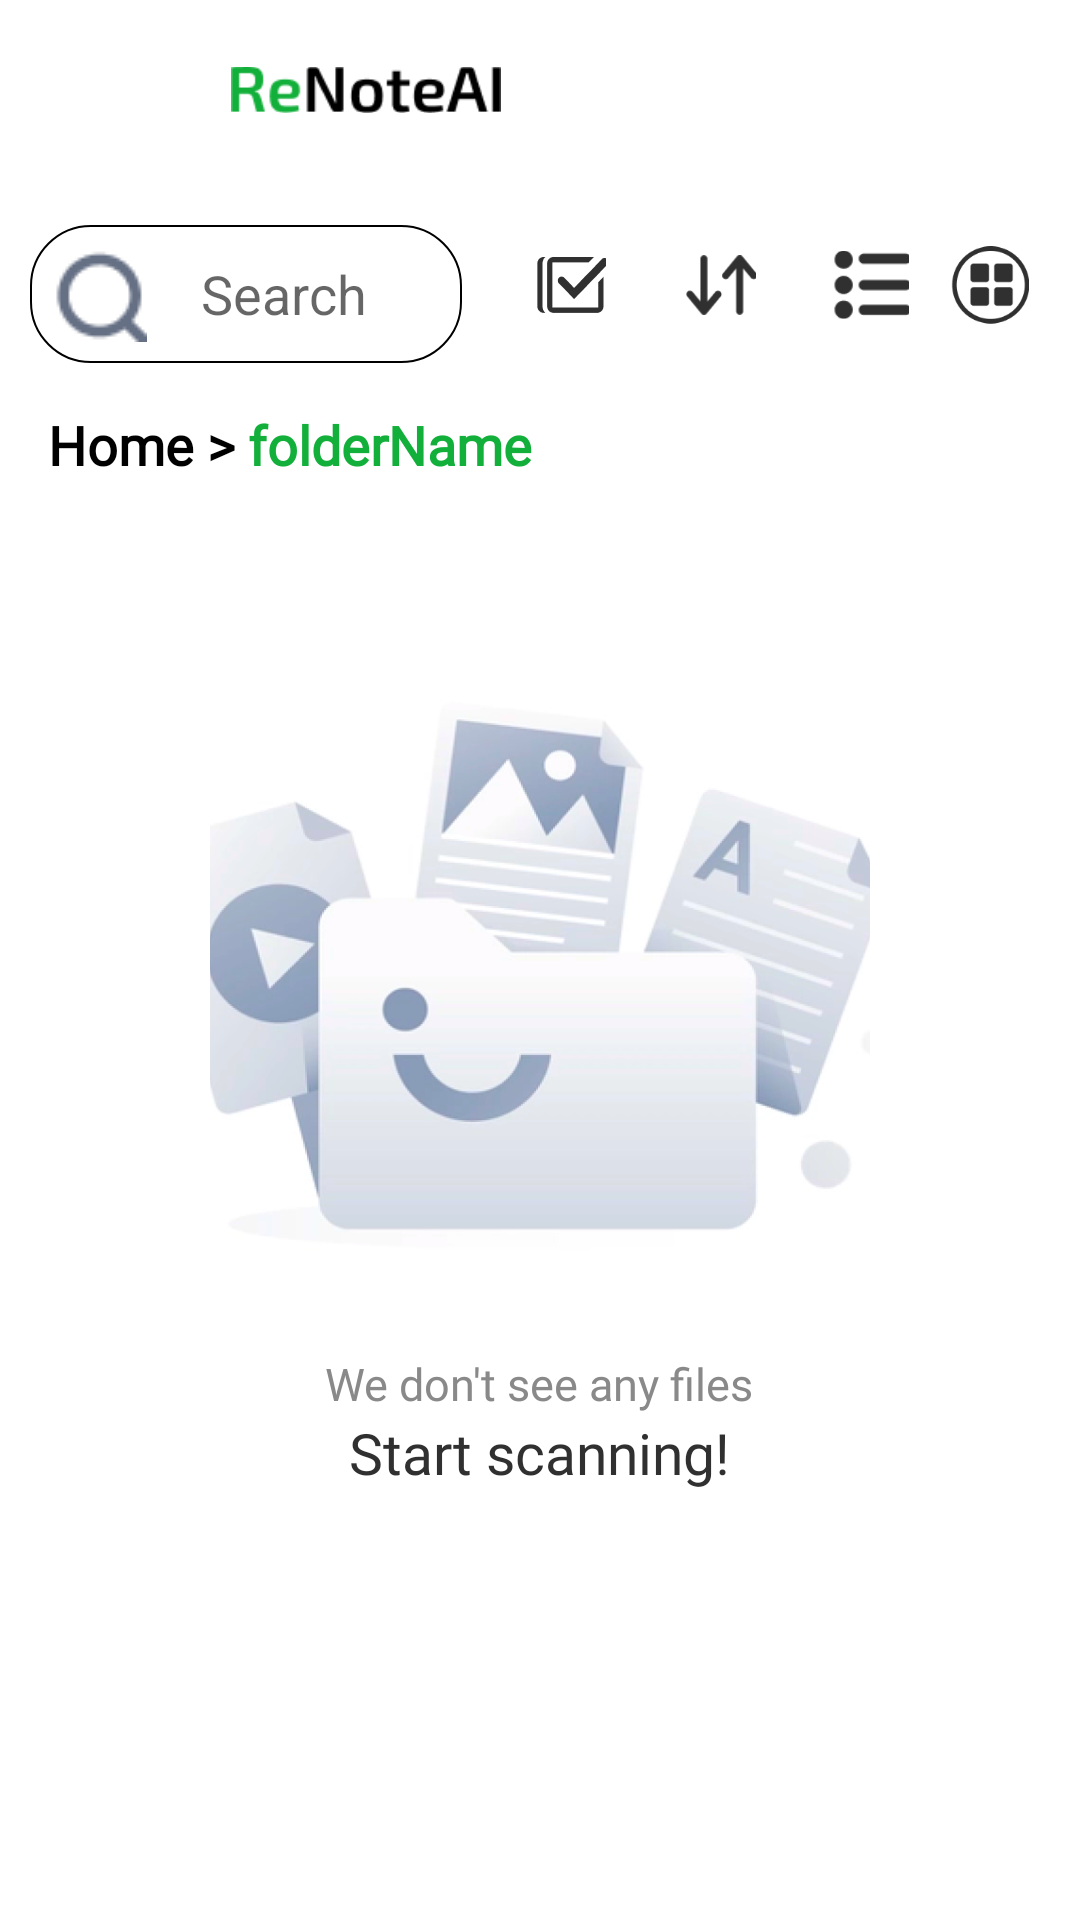

Where icons sit on this 1080w x 1920h app screen, as (x1, y1, x2, y2):
gridview: (952, 246, 1029, 324)
listview: (834, 251, 909, 319)
select: (537, 257, 606, 313)
